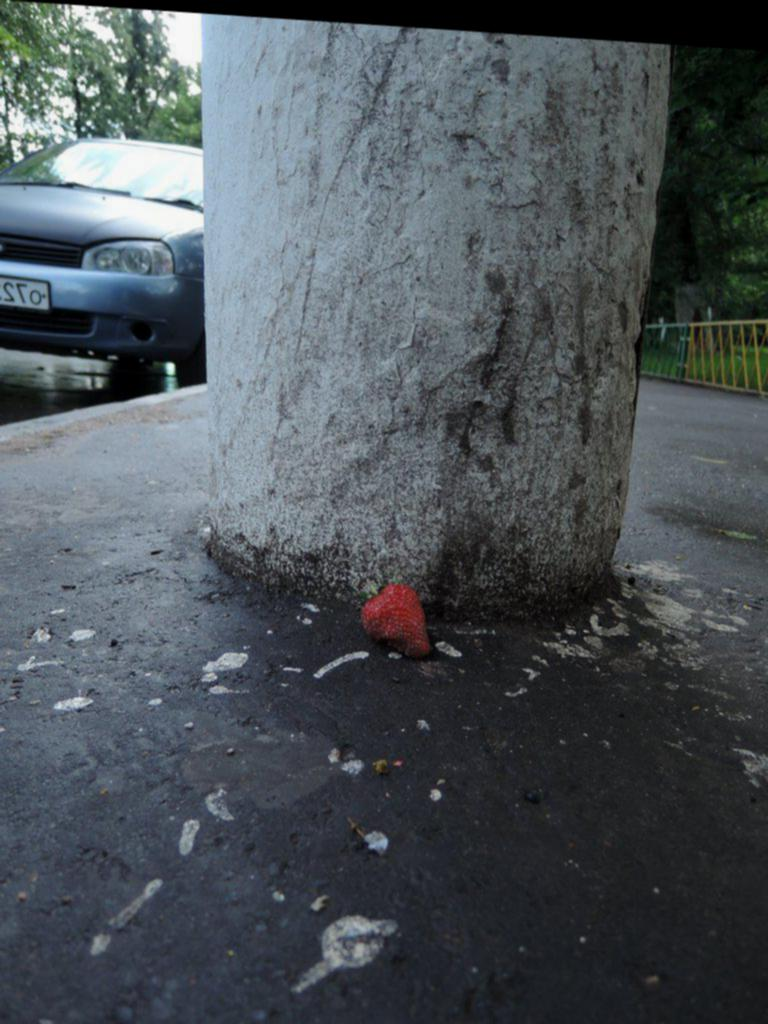License_Plate: (1, 275, 50, 313)
